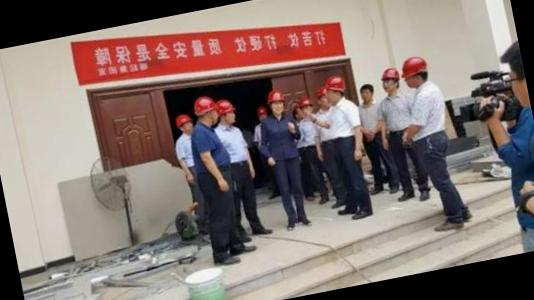no_helmet: (491, 34, 530, 113), (356, 82, 377, 107)
